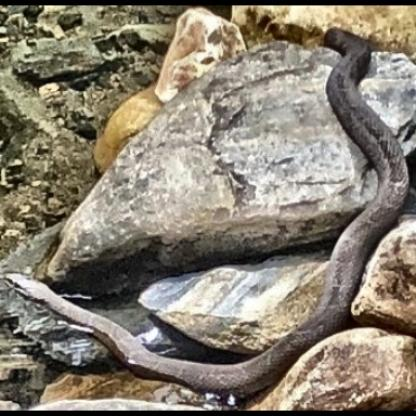Snake: (0, 268, 366, 400), (313, 24, 405, 256)
